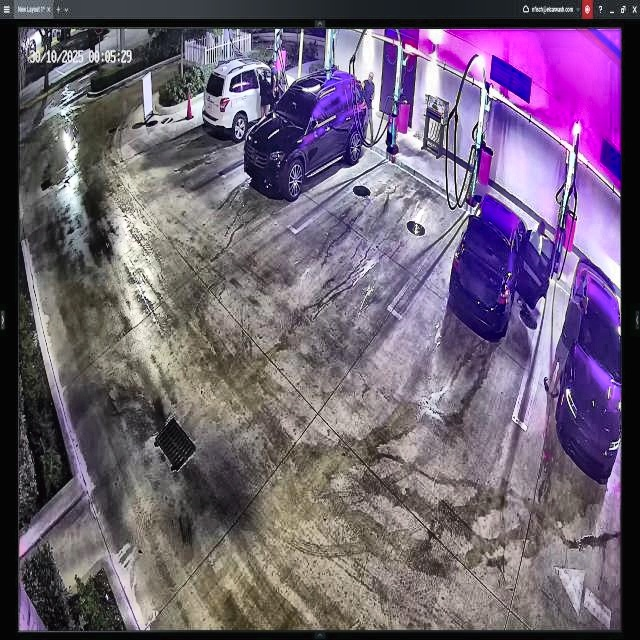Car: (245, 71, 369, 198), (448, 190, 554, 338)
